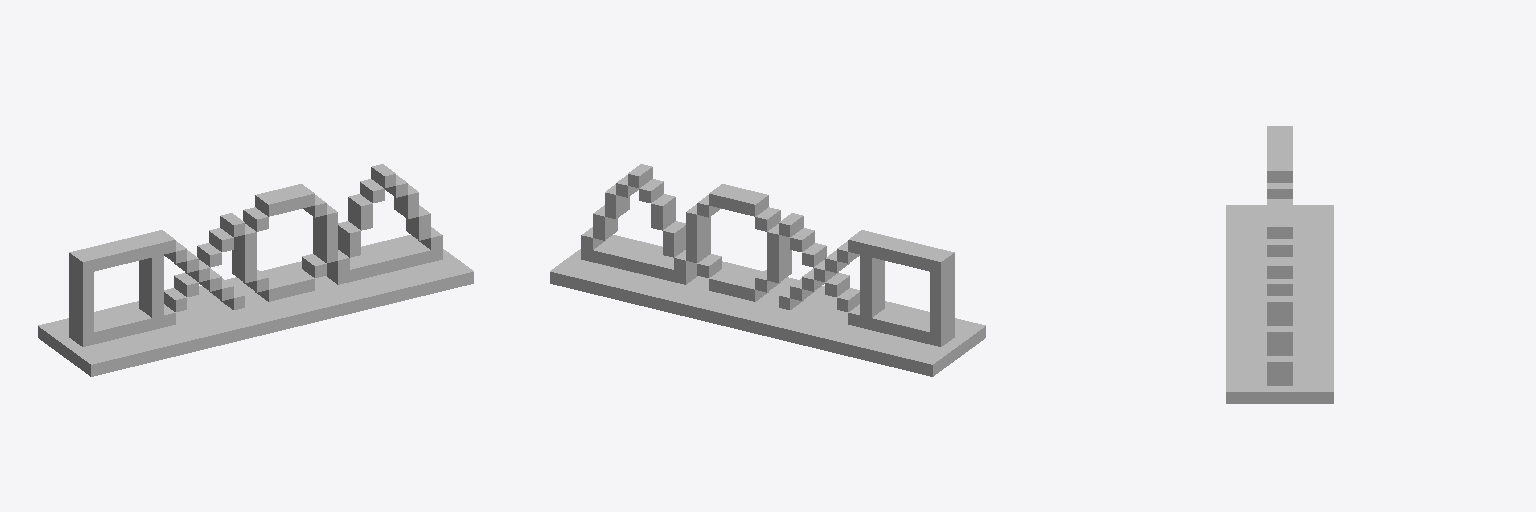
The model's file is OXlight.obj.
3 views of the same model, side by side, from view 1: azimuth 30°, elevation 25°; view 2: azimuth 150°, elevation 25°; view 3: azimuth 270°, elevation 25° (orthographic).
Parts seen in each view (by area): view 1: Untitled.004, Untitled.002, Untitled.003, Untitled.001, Untitled; view 2: Untitled.004, Untitled.002, Untitled.003, Untitled.001, Untitled; view 3: Untitled.004, Untitled.003, Untitled.001, Untitled, Untitled.002.
Boxes of the visible parts, <box> form: Untitled.004: <box>38,235,473,376</box>; Untitled.002: <box>69,233,163,346</box>; Untitled.003: <box>327,164,442,284</box>; Untitled.001: <box>232,184,337,301</box>; Untitled: <box>151,213,244,326</box>; Untitled.004: <box>550,235,985,376</box>; Untitled.002: <box>860,233,954,346</box>; Untitled.003: <box>581,164,696,284</box>; Untitled.001: <box>686,184,791,301</box>; Untitled: <box>779,213,872,326</box>; Untitled.004: <box>1226,205,1333,403</box>; Untitled.003: <box>1267,261,1292,385</box>; Untitled.001: <box>1267,204,1292,260</box>; Untitled: <box>1267,165,1292,203</box>; Untitled.002: <box>1267,126,1292,164</box>.
Size of the model in its own units: 3.3 by 0.9 by 0.8.